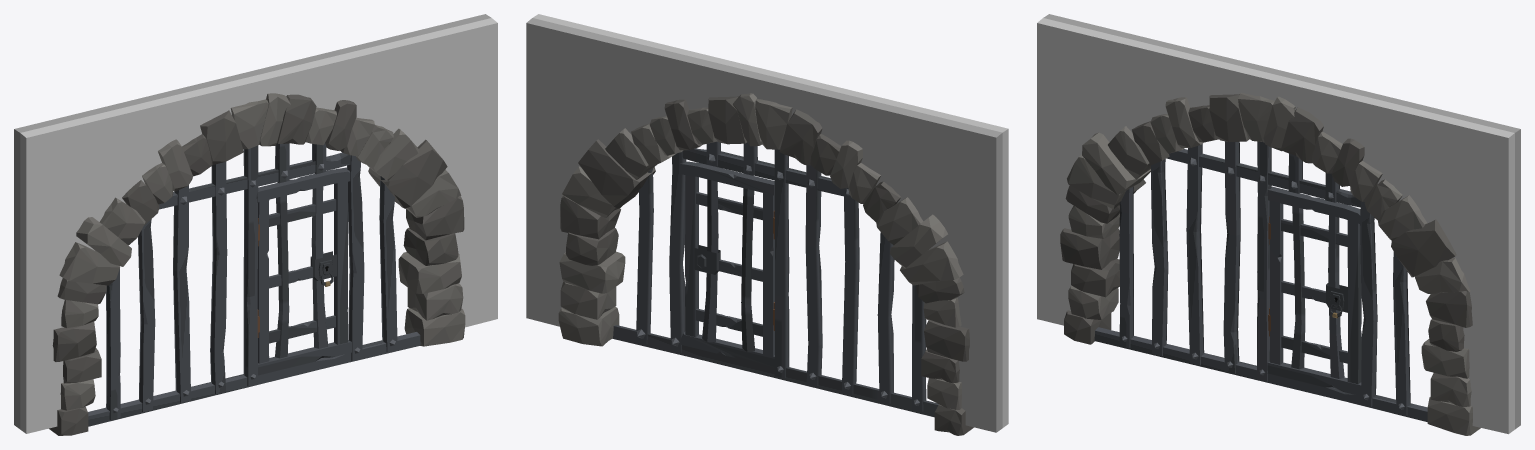
The model's file is SM_Bld_Prison_Wall_Door_01.fbx.
The picture shows the model from 3 angles, left to right: view 1: azimuth 30°, elevation 25°; view 2: azimuth 150°, elevation 25°; view 3: azimuth 330°, elevation 25°; orthographic projection.
Visible parts, largest first — view 1: SM_Bld_Prison_Wall_Door_01, SM_Bld_Wall_Door_Prison_Door_01; view 2: SM_Bld_Prison_Wall_Door_01, SM_Bld_Wall_Door_Prison_Door_01; view 3: SM_Bld_Prison_Wall_Door_01, SM_Bld_Wall_Door_Prison_Door_01.
Boxes of the visible parts, left/top/right/bottom form: SM_Bld_Prison_Wall_Door_01: left=14, top=14, right=497, bottom=435; SM_Bld_Wall_Door_Prison_Door_01: left=257, top=167, right=351, bottom=375; SM_Bld_Prison_Wall_Door_01: left=526, top=14, right=1008, bottom=435; SM_Bld_Wall_Door_Prison_Door_01: left=679, top=161, right=774, bottom=367; SM_Bld_Prison_Wall_Door_01: left=1037, top=14, right=1520, bottom=435; SM_Bld_Wall_Door_Prison_Door_01: left=1267, top=186, right=1361, bottom=395.
Bounding box in the file's own units: 500 × 310 × 58.38.
